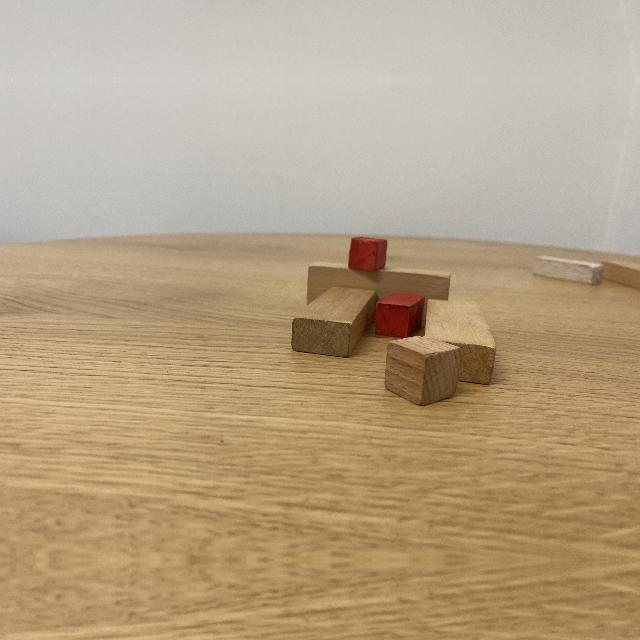block: (532, 257, 605, 286)
cube: (384, 334, 461, 406)
jenga: (424, 298, 496, 385), (291, 286, 377, 358), (307, 267, 451, 304), (601, 261, 640, 291)
red cube: (375, 291, 425, 338), (347, 236, 387, 272)
